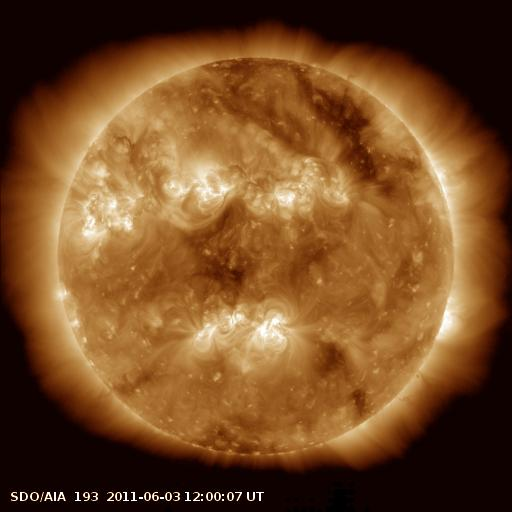coronal_hole: (296, 64, 394, 183), (209, 56, 286, 126), (311, 334, 354, 385)
